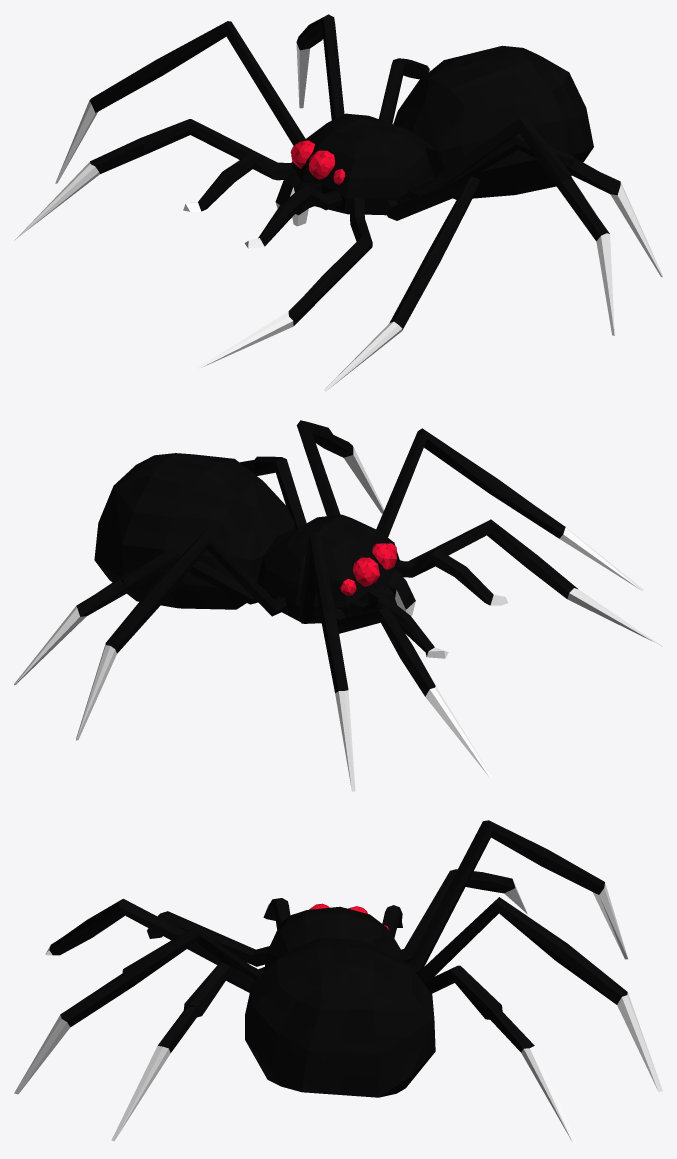
File: spiderAttack7.obj
The picture shows the model from 3 angles, top to bottom: view 1: azimuth 30°, elevation 25°; view 2: azimuth 150°, elevation 25°; view 3: azimuth 270°, elevation 25°; orthographic projection. The views are drawn at different scales.
Visible parts, largest first — view 1: Cube.004_Cube.005; view 2: Cube.004_Cube.005; view 3: Cube.004_Cube.005.
Boxes of the visible parts, bbox=[...] form: Cube.004_Cube.005: bbox=[14, 14, 662, 391]; Cube.004_Cube.005: bbox=[14, 420, 662, 791]; Cube.004_Cube.005: bbox=[14, 820, 662, 1144].
Bounding box in the file's own units: 30.16 × 11.37 × 34.63.
